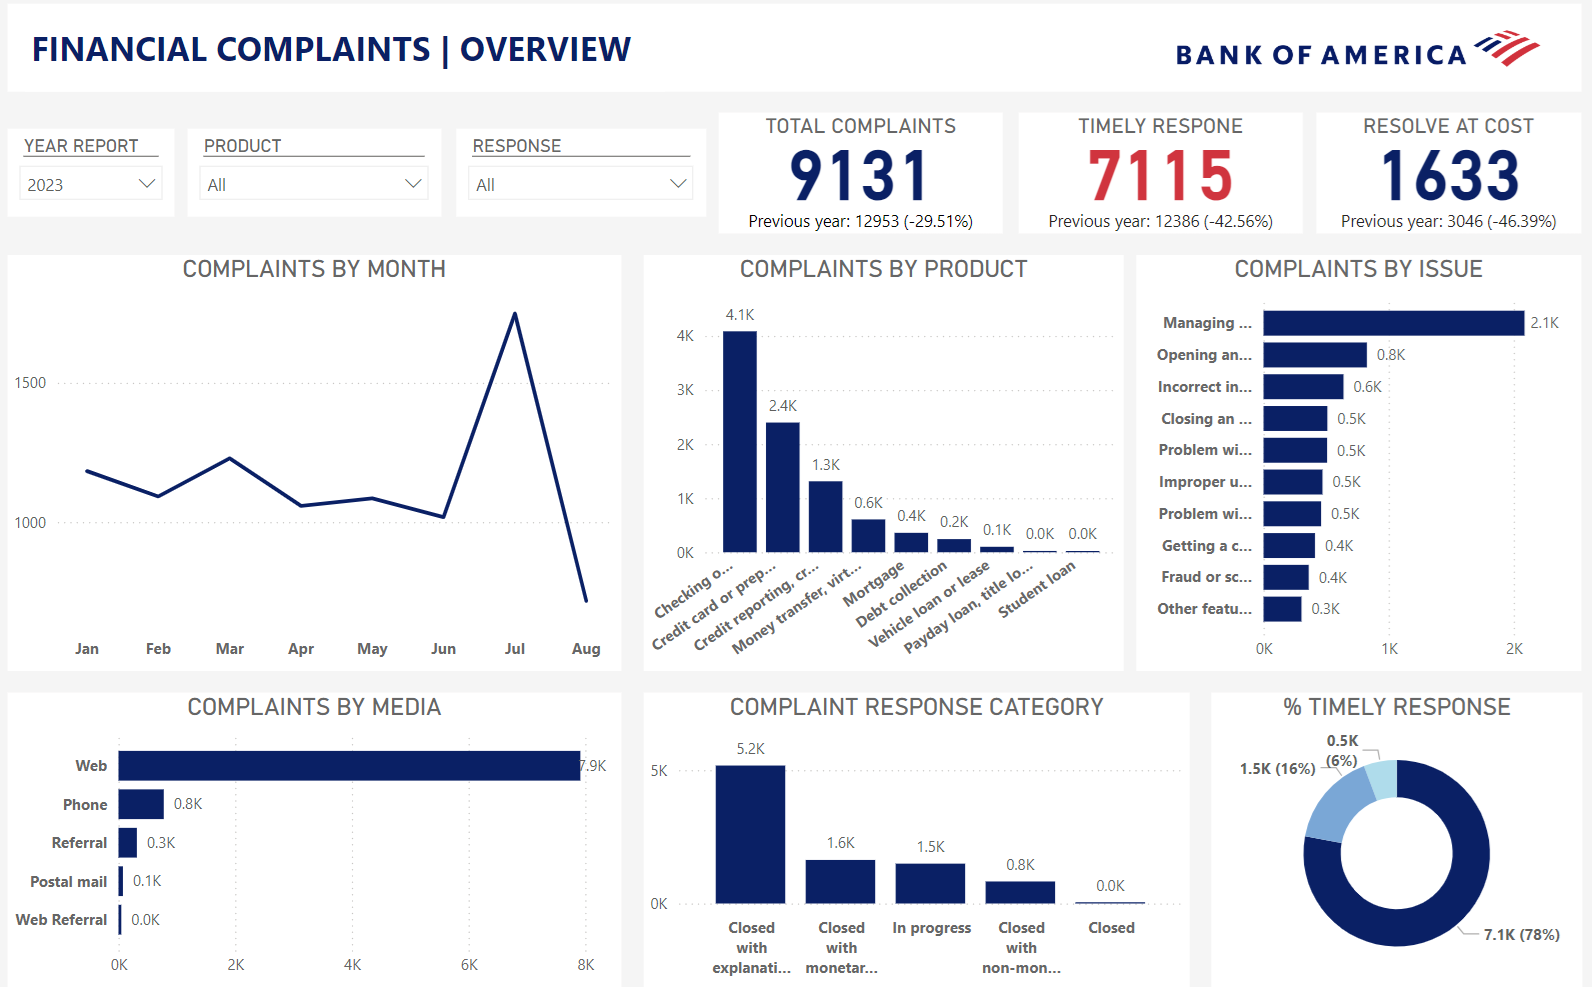

The page's visual inventory and layout, read from the dashboard file:
{"tool":"powerbi","page":{"name":"Overview","canvas":[1280,820],"ordinal":0},"visuals":[{"type":"textbox","box":[0,1.4,1280,818.6],"z":0},{"type":"lineChart","title":"COMPLAINTS BY MONTH","fields":{"Y":["Data.Complaints"],"Category":["Calendar.Month"]},"box":[10,220,491.4,332.9],"z":1000},{"type":"columnChart","title":"COMPLAINTS BY PRODUCT","fields":{"Category":["Data.Product"],"Y":["Data.Complaints"]},"box":[518.6,220,384.3,332.9],"z":2000},{"type":"clusteredColumnChart","title":"COMPLAINT RESPONSE CATEGORY","fields":{"Category":["Data.Company response to consumer"],"Y":["Data.Complaints"]},"box":[518.6,570,437.1,235.7],"z":3000},{"type":"donutChart","title":"% TIMELY RESPONSE","fields":{"Category":["Data.Timely response?"],"Y":["Data.Complaints"]},"box":[972.9,570,297.1,235.7],"z":4000},{"type":"clusteredBarChart","title":"COMPLAINTS BY ISSUE","fields":{"Category":["Data.Issue"],"Y":["Data.Complaints"]},"box":[912.9,220,355.7,332.9],"z":5000},{"type":"clusteredBarChart","title":"COMPLAINTS BY MEDIA","fields":{"Category":["Data.Submitted via"],"Y":["Data.Complaints"]},"box":[10,570,491.4,235.7],"z":6000},{"type":"kpi","title":"TOTAL COMPLAINTS","fields":{"Indicator":["Data.Complaints"],"Goal":["Data.Previousyear"],"TrendLine":["Calendar.Year"]},"box":[578.6,105.7,227.1,97.1],"z":7000},{"type":"kpi","title":"TIMELY RESPONE","fields":{"Indicator":["Data.Timely_yes"],"TrendLine":["Calendar.Year"],"Goal":["Data.Timely_previous"]},"box":[818.6,105.7,227.1,97.1],"z":8000},{"type":"kpi","title":"RESOLVE AT COST","fields":{"TrendLine":["Calendar.Year"],"Indicator":["Data.Money_relief"],"Goal":["Data.Money_relief_previousyear"]},"box":[1057.1,105.7,211.4,97.1],"z":9000},{"type":"textbox","box":[10,18.6,1258.6,71.4],"z":10000},{"type":"textbox","box":[24.3,31.4,511.4,58.6],"z":11000},{"type":"image","box":[941.4,21.4,300,68.6],"z":12000},{"type":"slicer","fields":{"Values":["Data.Product"]},"box":[154.3,118.6,202.9,71.4],"z":13000},{"type":"slicer","fields":{"Values":["Data.Company response to consumer"]},"box":[368.6,118.6,200,71.4],"z":14000},{"type":"slicer","fields":{"Values":["Calendar.Year"]},"box":[10,118.6,134.3,71.4],"z":15000}]}

Visuals, with their boxes on the page's 1280x820 design canvas (x1, y1, x2, y2). These are canvas units, not pixel positions in the 1592x987 screenshot, which may show the page scaled, cropped or inside an application window:
textbox: [x1=0, y1=1, x2=1280, y2=820]
"COMPLAINTS BY MONTH" lineChart: [x1=10, y1=220, x2=501, y2=553]
"COMPLAINTS BY PRODUCT" columnChart: [x1=519, y1=220, x2=903, y2=553]
"COMPLAINT RESPONSE CATEGORY" clusteredColumnChart: [x1=519, y1=570, x2=956, y2=806]
"% TIMELY RESPONSE" donutChart: [x1=973, y1=570, x2=1270, y2=806]
"COMPLAINTS BY ISSUE" clusteredBarChart: [x1=913, y1=220, x2=1269, y2=553]
"COMPLAINTS BY MEDIA" clusteredBarChart: [x1=10, y1=570, x2=501, y2=806]
"TOTAL COMPLAINTS" kpi: [x1=579, y1=106, x2=806, y2=203]
"TIMELY RESPONE" kpi: [x1=819, y1=106, x2=1046, y2=203]
"RESOLVE AT COST" kpi: [x1=1057, y1=106, x2=1268, y2=203]
textbox: [x1=10, y1=19, x2=1269, y2=90]
textbox: [x1=24, y1=31, x2=536, y2=90]
image: [x1=941, y1=21, x2=1241, y2=90]
slicer - Data.Product: [x1=154, y1=119, x2=357, y2=190]
slicer - Data.Company response to consumer: [x1=369, y1=119, x2=569, y2=190]
slicer - Calendar.Year: [x1=10, y1=119, x2=144, y2=190]
